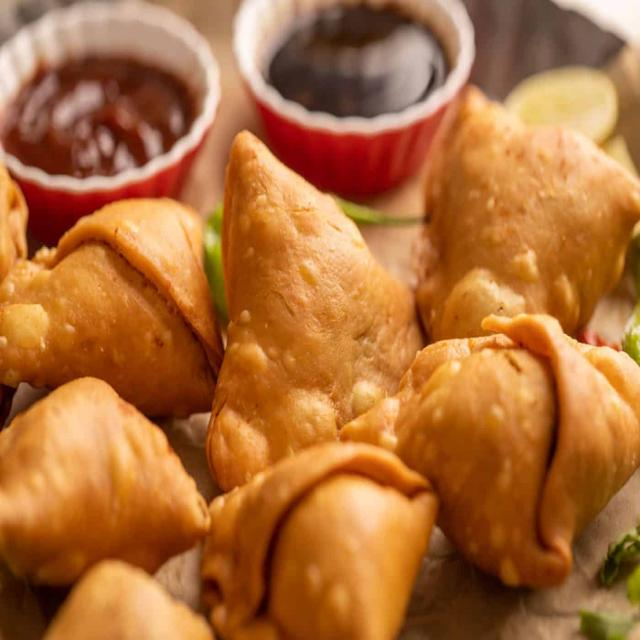SAMOSA: (0, 80, 640, 639)
